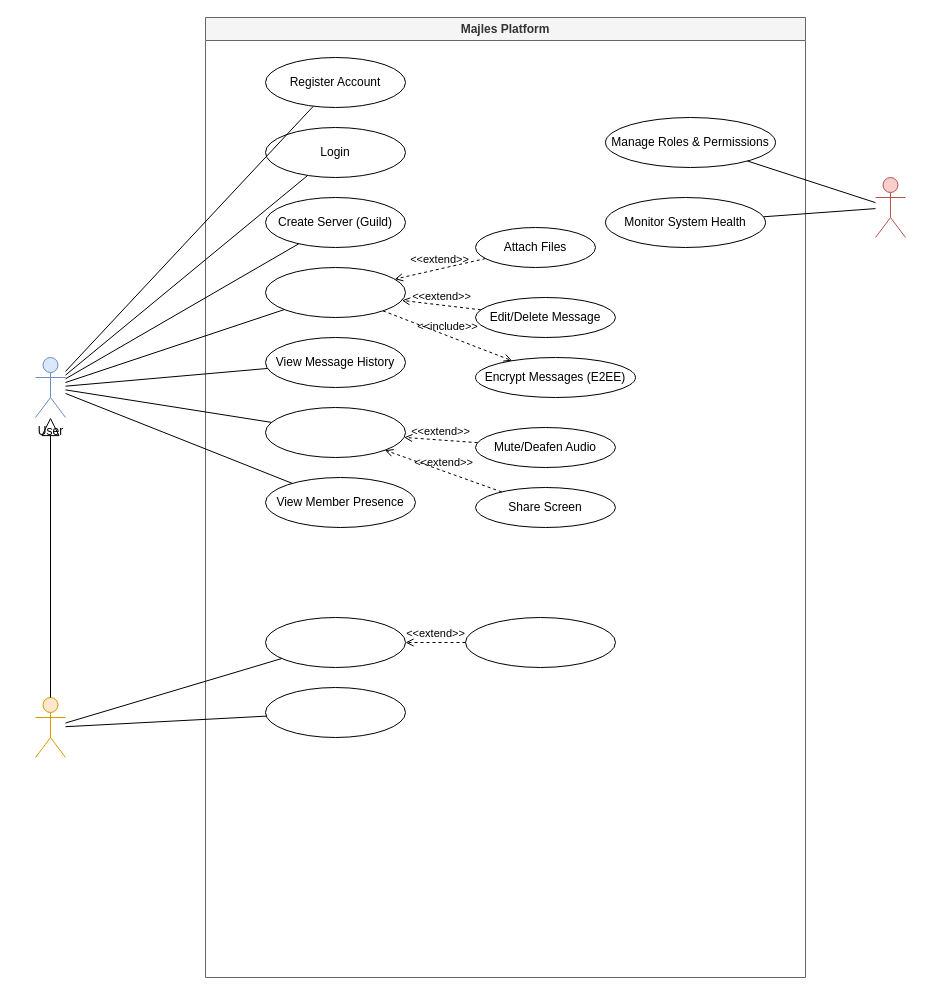
The diagram is 943 pixels wide and 995 high, and some of its shapes have lost their labels. The centre of each missing label's shape, as x and y in pixels:
"Administrator" belongs at (x=890, y=207).
"Guild Owner" belongs at (x=50, y=727).
"Invite Members" belongs at (x=335, y=712).
"Join Voice Channel" belongs at (x=335, y=432).
"Manage Channels" belongs at (x=335, y=642).
"Send/Receive Messages" belongs at (x=335, y=292).
"Set Channel Overrides" belongs at (x=540, y=642).
